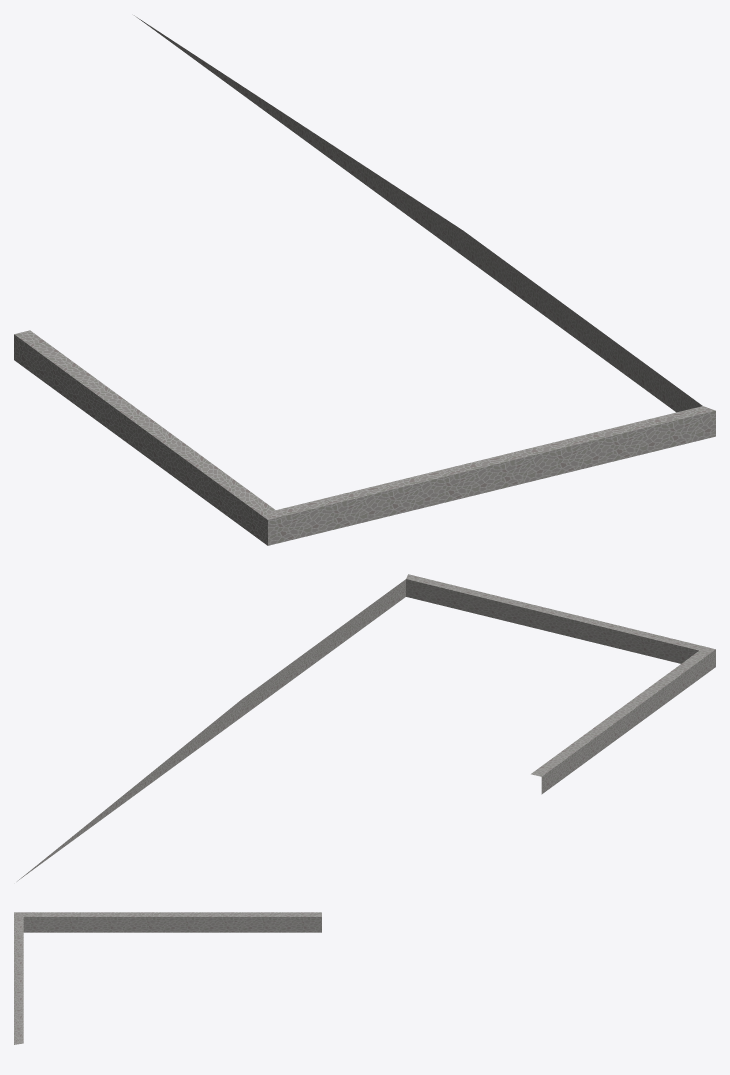
File: kd_stage_135c43_0_0.glb
3 views of the same model, one above another, from view 1: azimuth 30°, elevation 25°; view 2: azimuth 150°, elevation 25°; view 3: azimuth 270°, elevation 25° (orthographic). The views are drawn at different scales.
Visible parts, largest first — view 1: kd_stage_135c43_0_0; view 2: kd_stage_135c43_0_0; view 3: kd_stage_135c43_0_0.
Boxes of the visible parts, left/top/right/bottom form: kd_stage_135c43_0_0: left=14, top=15, right=715, bottom=545; kd_stage_135c43_0_0: left=17, top=574, right=715, bottom=881; kd_stage_135c43_0_0: left=14, top=912, right=321, bottom=1044.
Size of the model in its own units: 18.12 by 1 by 40.55.
1 material, 1 textured.
